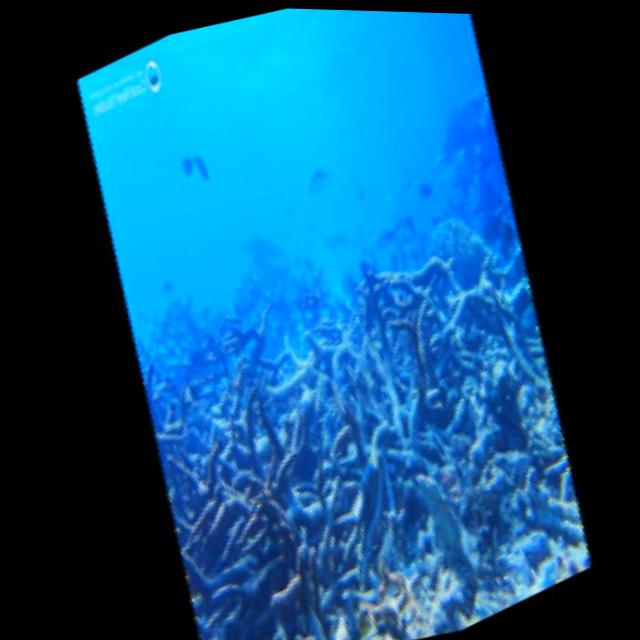Dead Coral: (122, 276, 553, 640)
